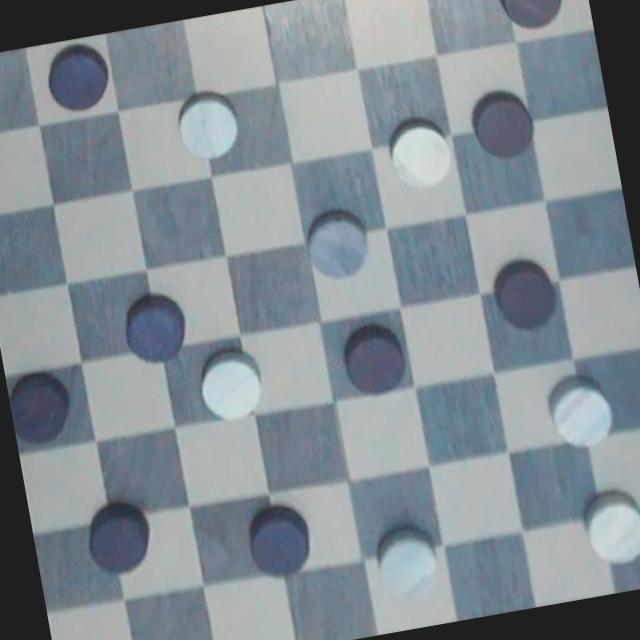BOARD: (0, 0, 640, 640)
black: (3, 354, 88, 454), (67, 492, 158, 584), (332, 312, 414, 408), (234, 497, 324, 583), (112, 282, 192, 370), (459, 84, 542, 168), (486, 250, 566, 336), (38, 36, 114, 116), (494, 0, 572, 39)
white: (534, 365, 630, 458), (364, 516, 457, 606), (290, 200, 380, 289), (164, 82, 252, 166), (378, 110, 460, 198), (570, 474, 640, 574), (194, 339, 270, 428)
